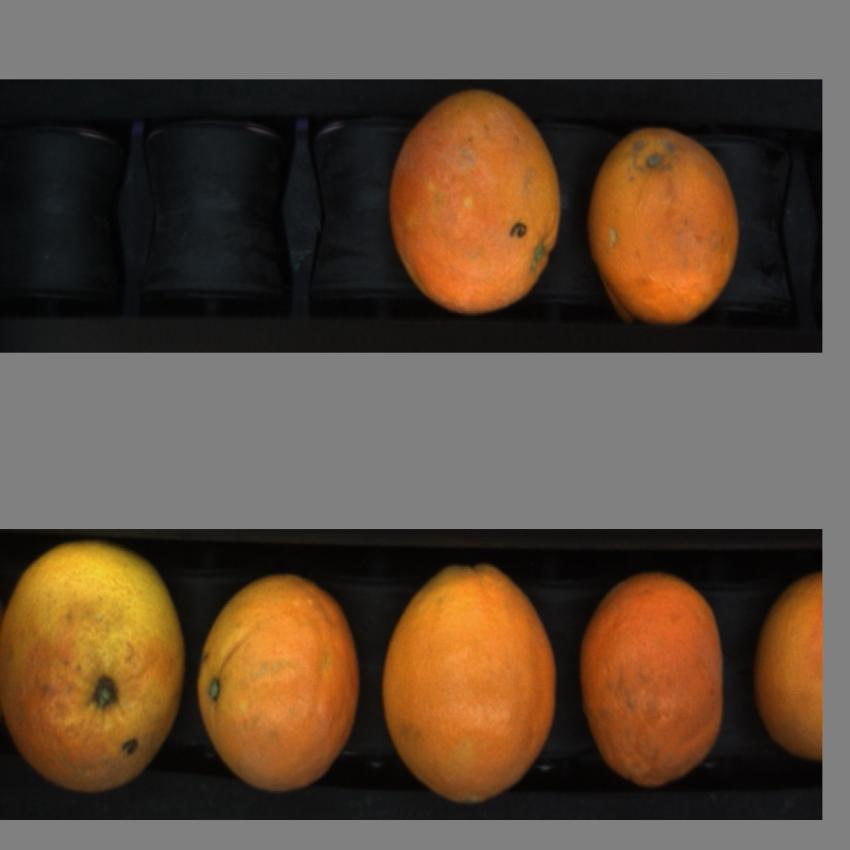Buen estado: (0, 532, 189, 804), (376, 558, 563, 809), (385, 80, 564, 322), (191, 559, 366, 804), (753, 570, 823, 756)
Mal estado: (578, 573, 728, 795), (586, 126, 744, 333)
